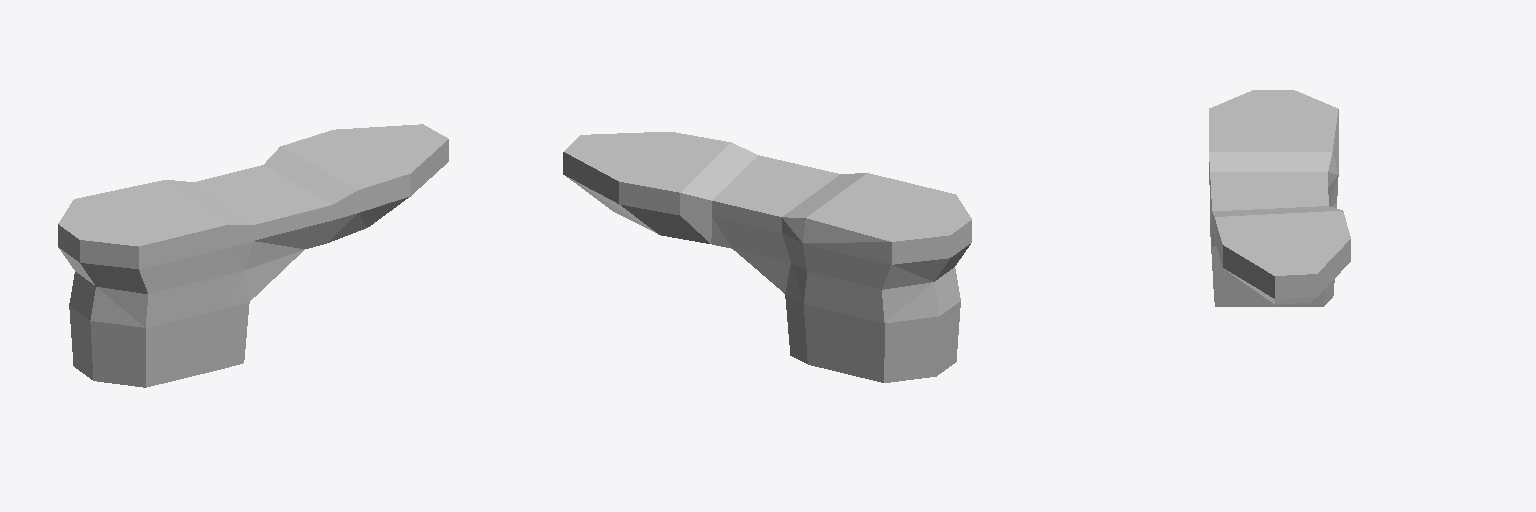
The model's file is footLeft.obj.
The picture shows the model from 3 angles: view 1: azimuth 30°, elevation 25°; view 2: azimuth 150°, elevation 25°; view 3: azimuth 270°, elevation 25°; orthographic projection.
Size of the model in its own units: 7.77 by 2.84 by 2.51.